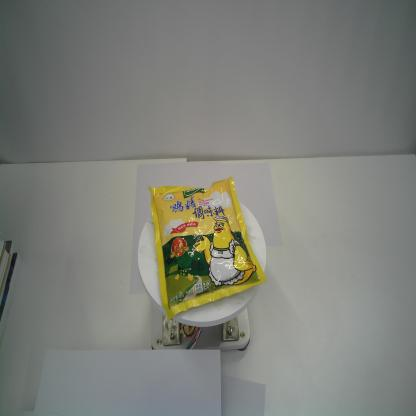Seasoner: (147, 175, 268, 324)
